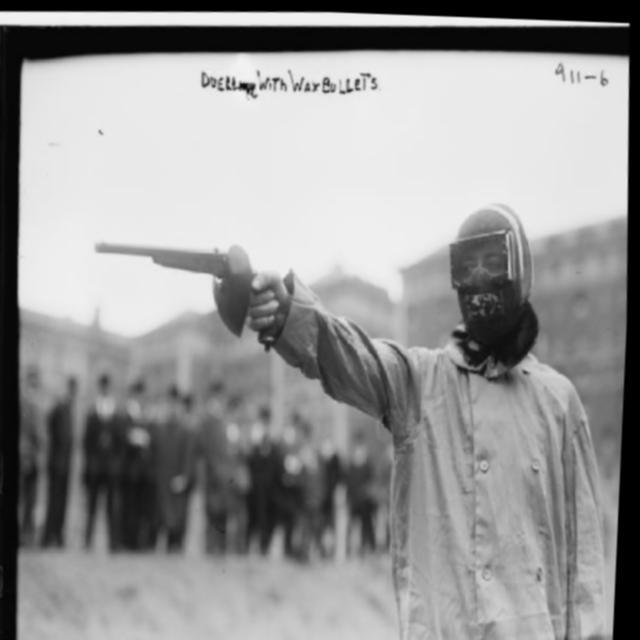weapon: (92, 232, 280, 350)
